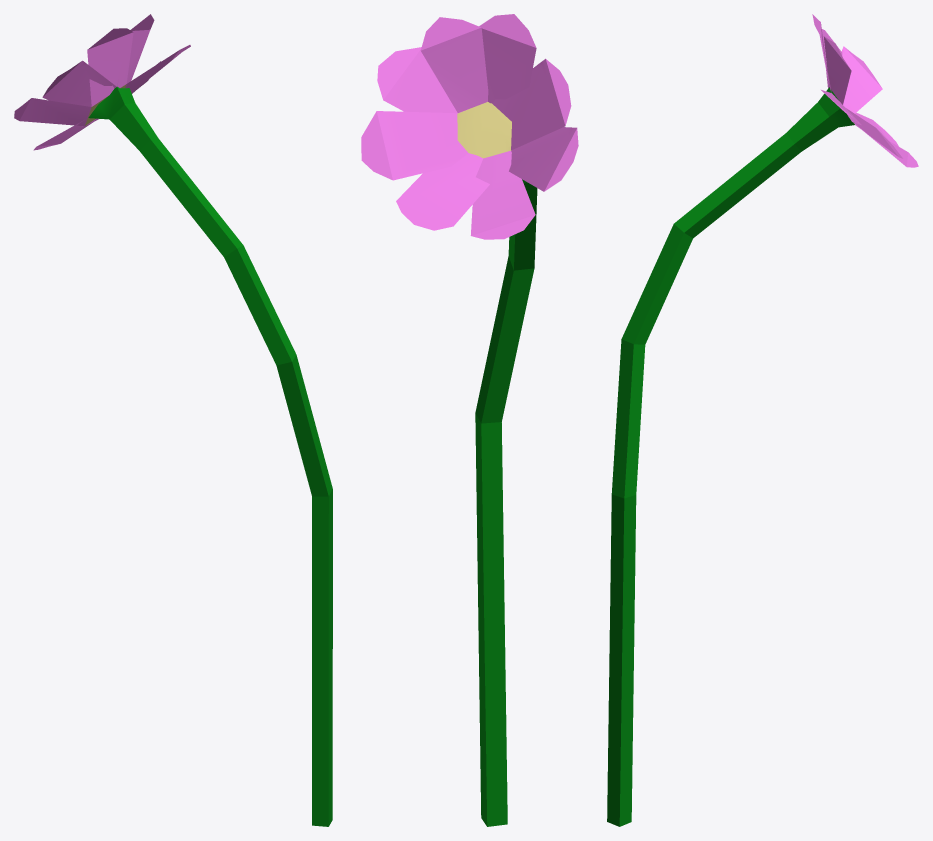
The model's file is flower.fbx.
The picture shows the model from 3 angles, left to right: view 1: azimuth 30°, elevation 25°; view 2: azimuth 150°, elevation 25°; view 3: azimuth 270°, elevation 25°; orthographic projection. The views are drawn at different scales.
Parts seen in each view (by area): view 1: Stem, Petal.008, Petal.001, Petal.002, Petal.007; view 2: Stem, Petal.005, Petal.007, Petal.004, Petal.003, Petal.001, Petal.008, Petal.006, Petal.002, Button; view 3: Stem, Petal.002, Petal.007.
Boxes of the visible parts, x1=… form: Stem: x1=88, y1=86, x2=332, y2=826; Petal.008: x1=87, y1=28, x2=133, y2=106; Petal.001: x1=42, y1=60, x2=116, y2=106; Petal.002: x1=14, y1=98, x2=91, y2=126; Petal.007: x1=117, y1=14, x2=154, y2=86; Stem: x1=475, y1=179, x2=537, y2=826; Petal.005: x1=361, y1=111, x2=468, y2=180; Petal.007: x1=420, y1=17, x2=488, y2=112; Petal.004: x1=396, y1=153, x2=489, y2=230; Petal.003: x1=470, y1=150, x2=535, y2=239; Petal.001: x1=492, y1=58, x2=571, y2=150; Petal.008: x1=479, y1=14, x2=536, y2=103; Petal.006: x1=377, y1=47, x2=467, y2=113; Petal.002: x1=509, y1=127, x2=578, y2=191; Button: x1=457, y1=102, x2=511, y2=158; Stem: x1=607, y1=87, x2=854, y2=826; Petal.002: x1=841, y1=46, x2=882, y2=113; Petal.007: x1=823, y1=36, x2=851, y2=104.
Bounding box in the file's own units: 1332 × 4811 × 1805.
Materials: 1 (1 with a texture image).
